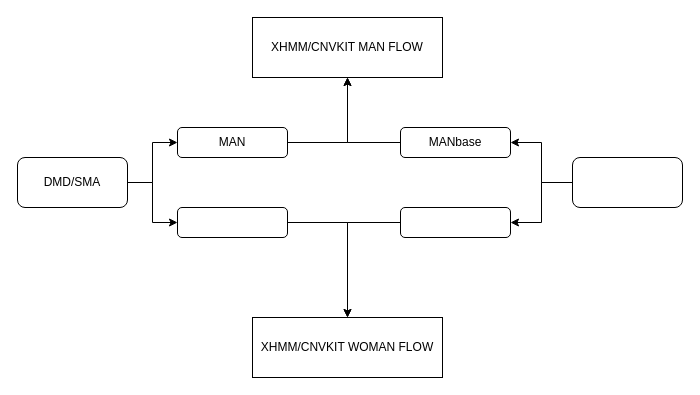
This 700x395 diagram has some shape labels left out. The box of each missing label's shape, as (x1, y1, x2, y2) in pixels:
Health Samples: (572, 156, 682, 208)
WOMAN: (176, 206, 288, 238)
WOMANbase: (400, 206, 510, 238)
